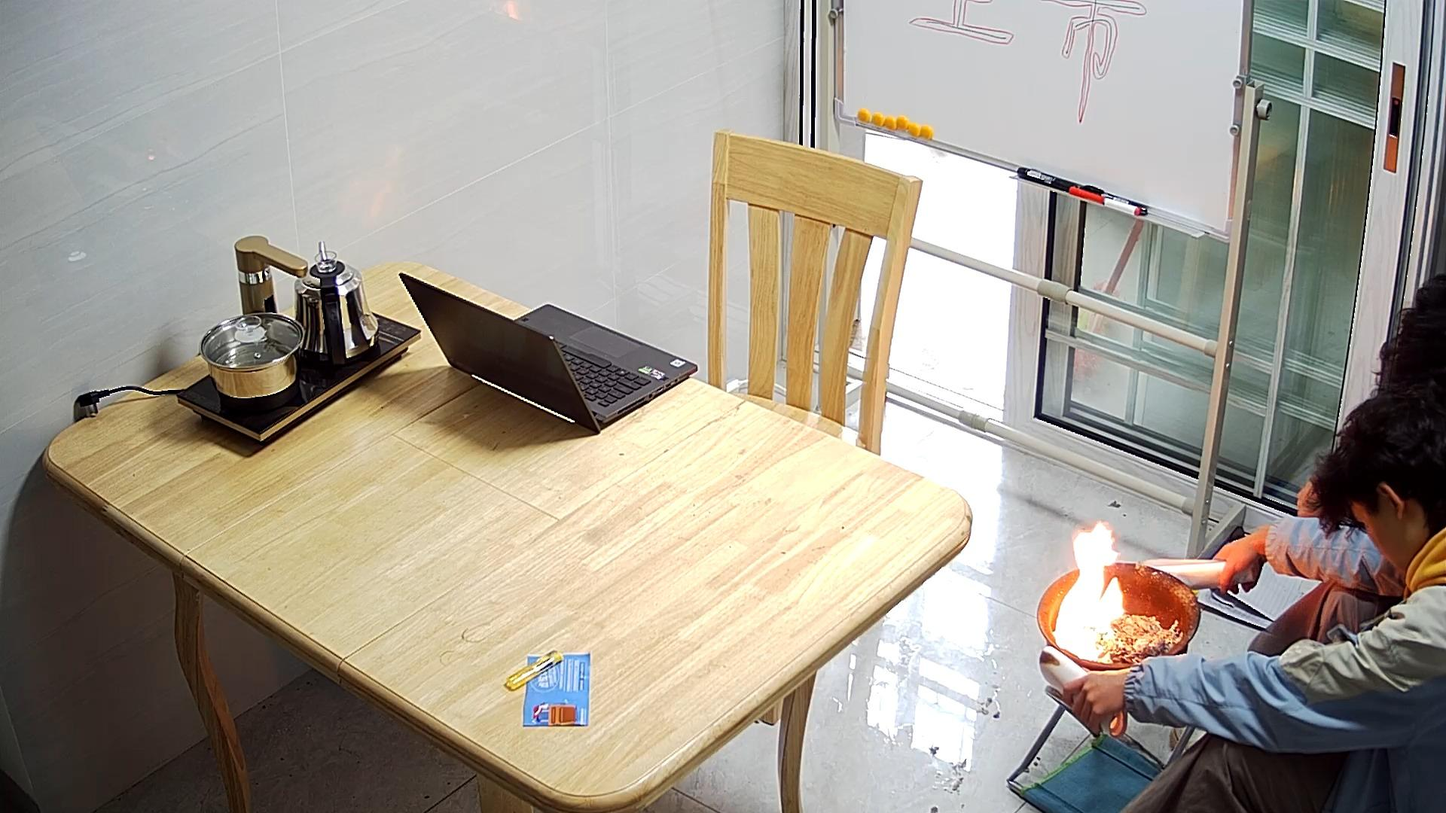fire: (1057, 523, 1124, 660)
